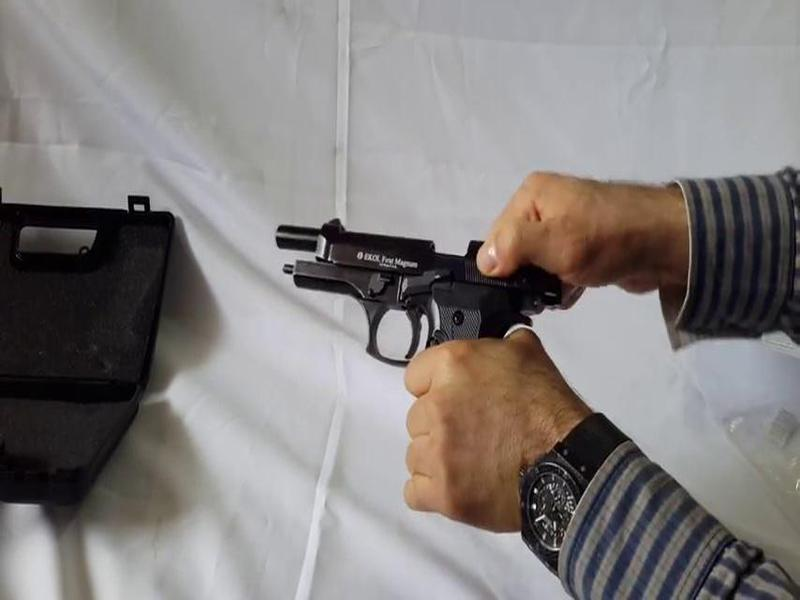Pistola: (253, 207, 569, 397)
